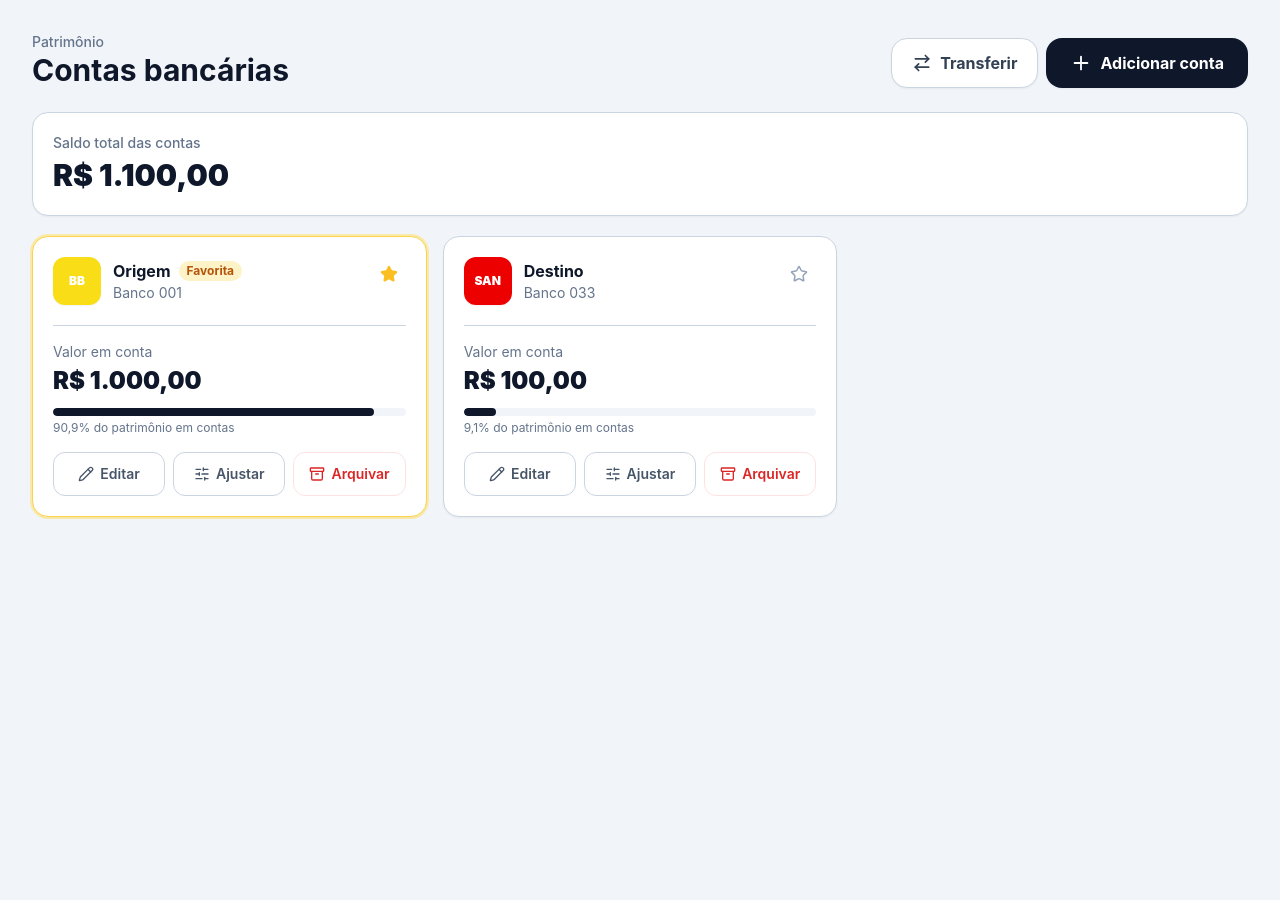
Test case: AccountsPage › troca origem e destino sem permitir que sejam a mesma conta
Click the button "Transferir" at (965, 63), box 891,38 -> 1038,88
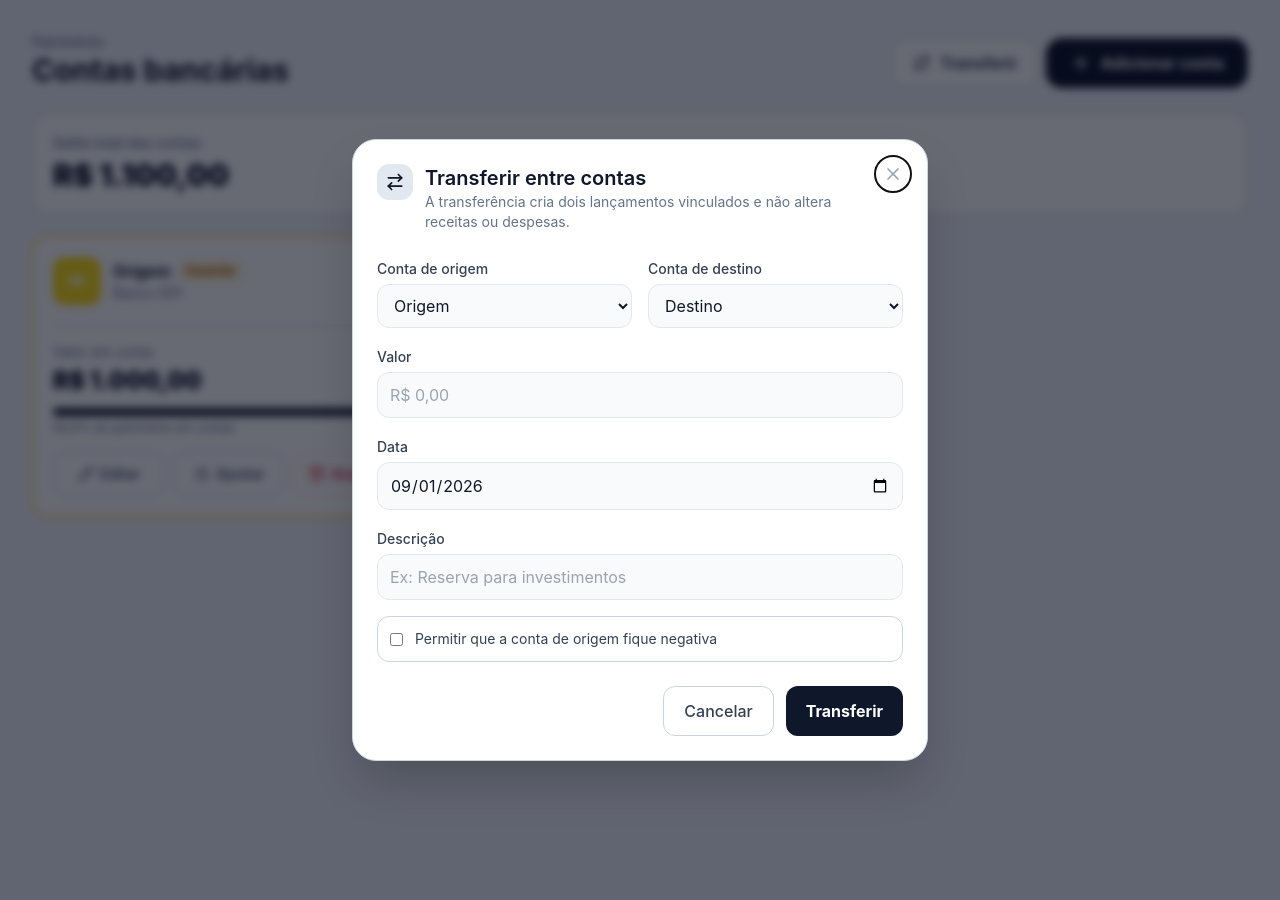
expect the dropdown labelled "Conta de origem" shows "Origem": met
expect the dropdown labelled "Conta de destino" shows "Destino": met, box 648,284 -> 903,328
Select "Destino" in the dropdown labelled "Conta de origem" at (504, 306), box 377,284 -> 632,328
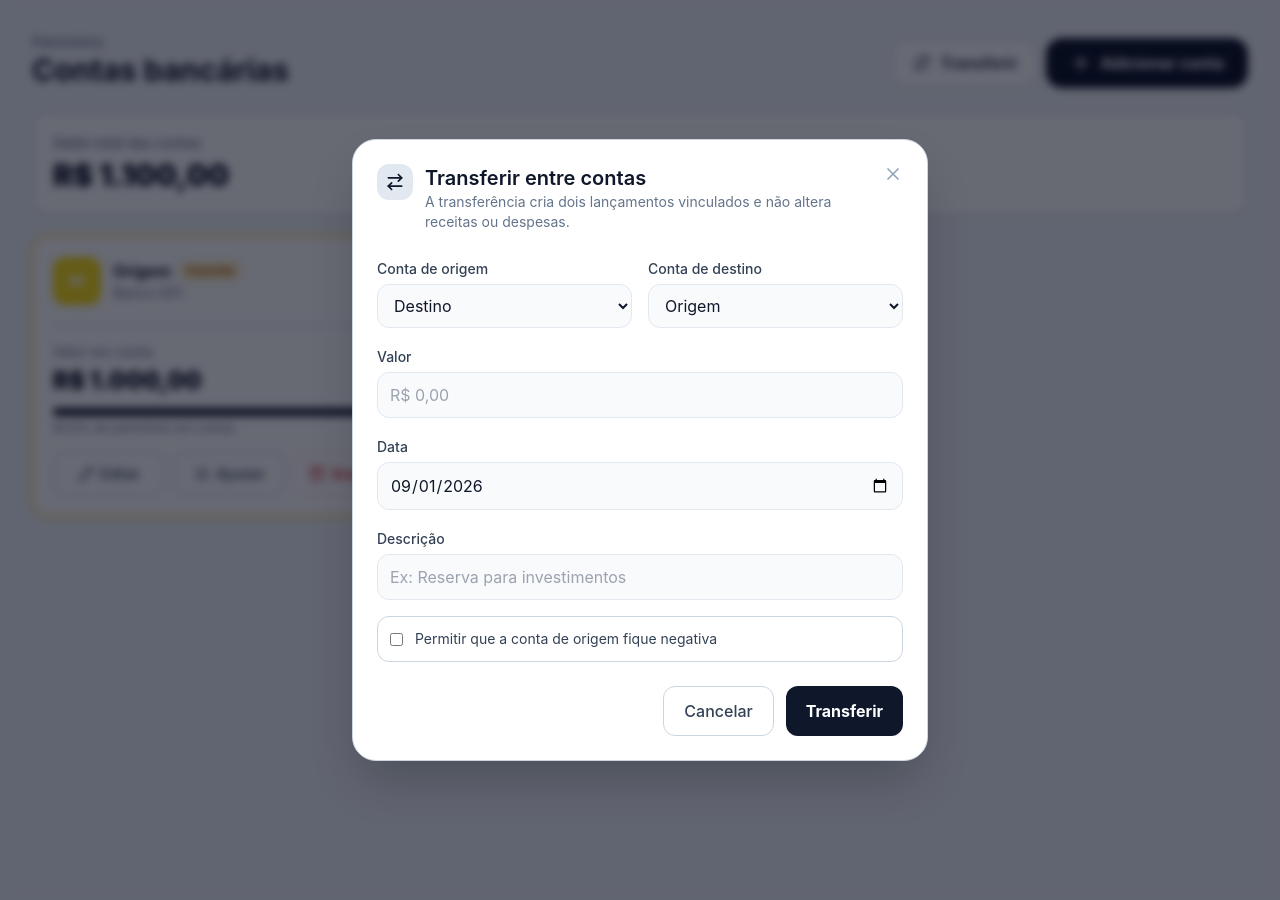
expect the dropdown labelled "Conta de destino" shows "Origem": met, box 648,284 -> 903,328
